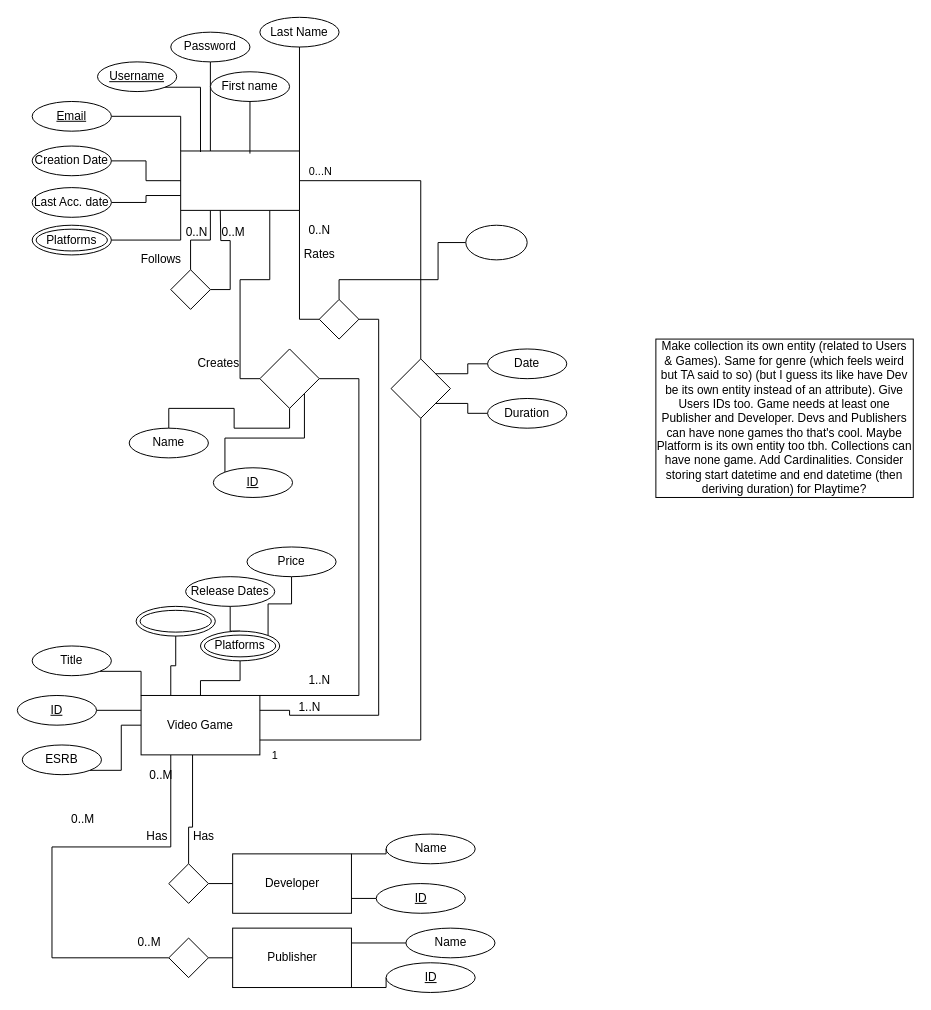
Some shapes in this 931 by 1010 pixel diagram are drawn without their labels. Each missing label, with the centre of its shape:
Collection: point (289, 378)
Genres: point (175, 620)
Playtime: point (420, 388)
Rating: point (496, 242)
User: point (239, 180)
